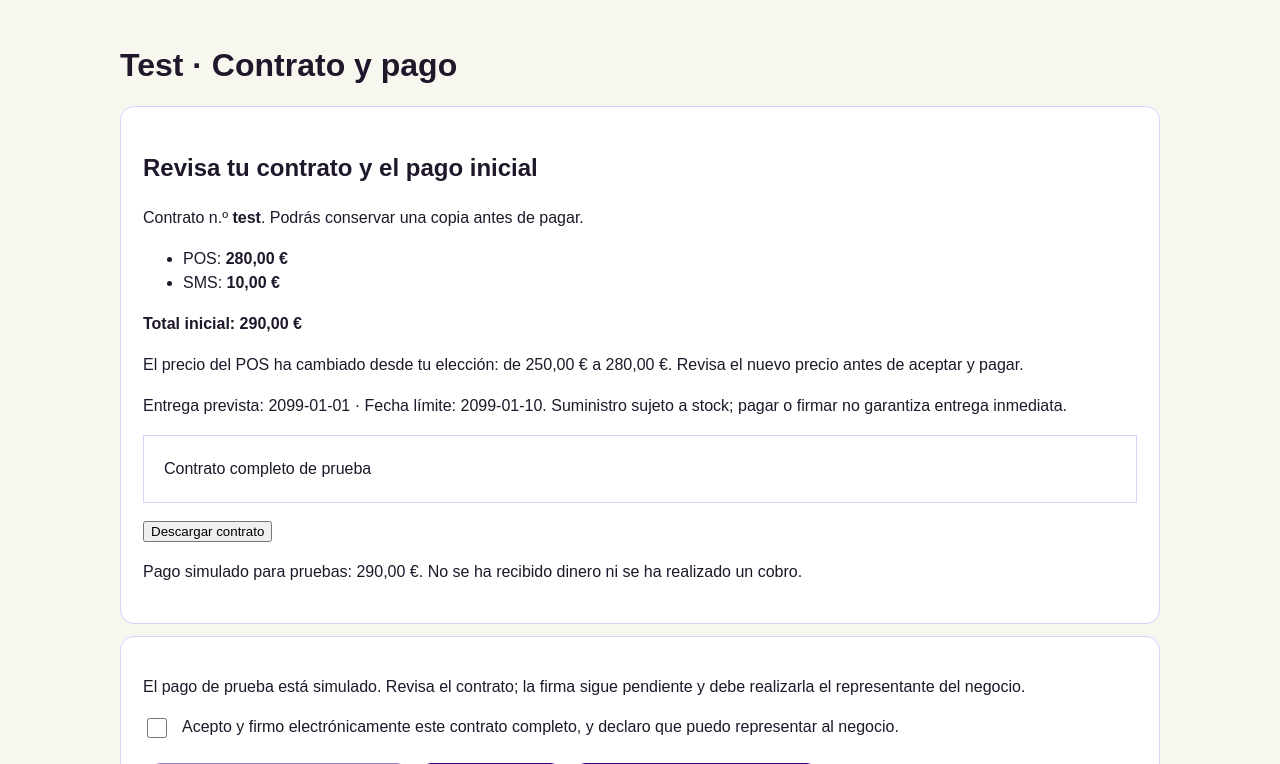
simulated payment is identified without real collection and still requires the representative signature
expect the text "No se ha recibido dinero" is shown: met, box [143,563,802,580]
Click the checkbox: (157, 728) [147,718,167,738]
(page scrolled)
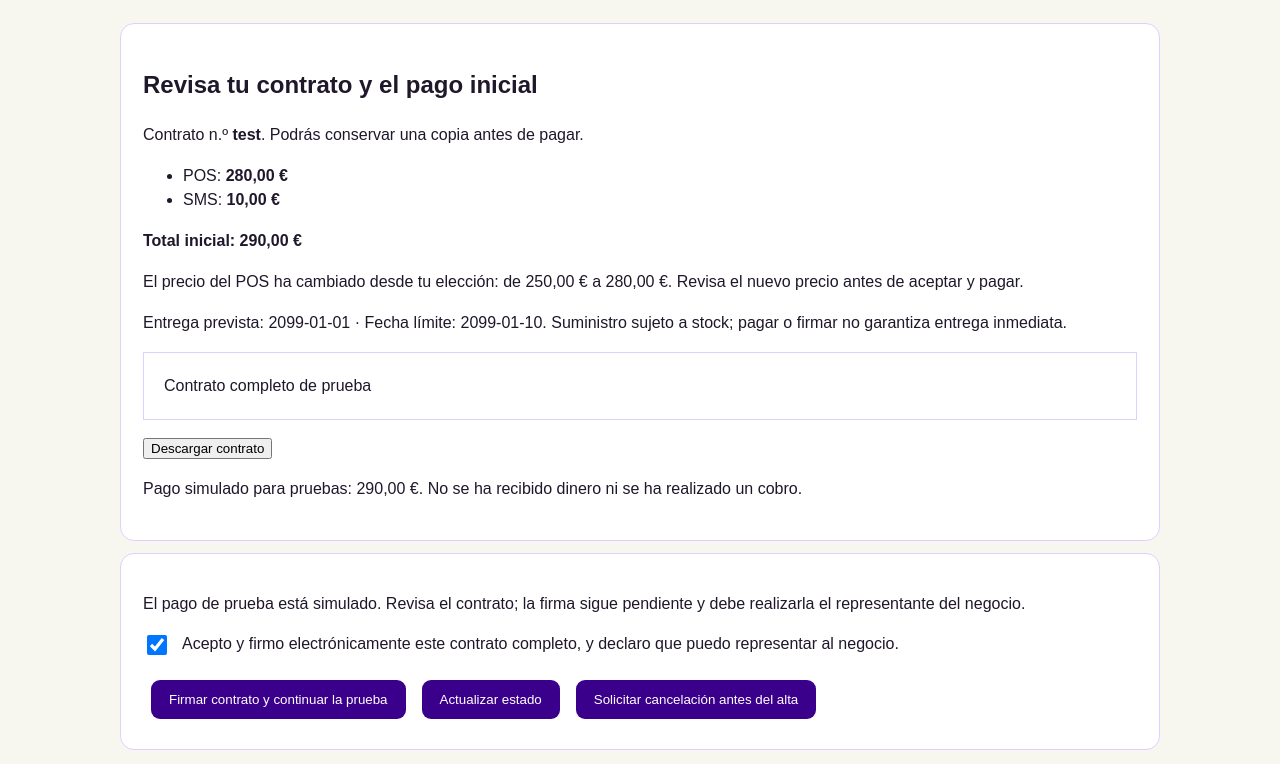
expect the button "Firmar contrato y continuar la prueba" is enabled: met, box [151,680,406,719]
